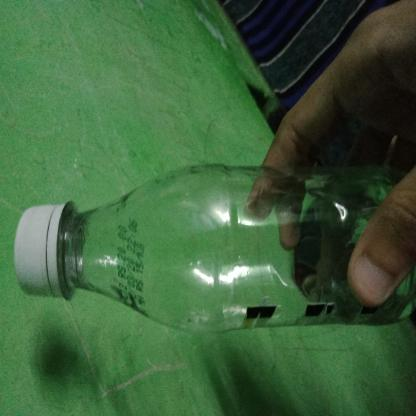bottle: (61, 15, 193, 416)
